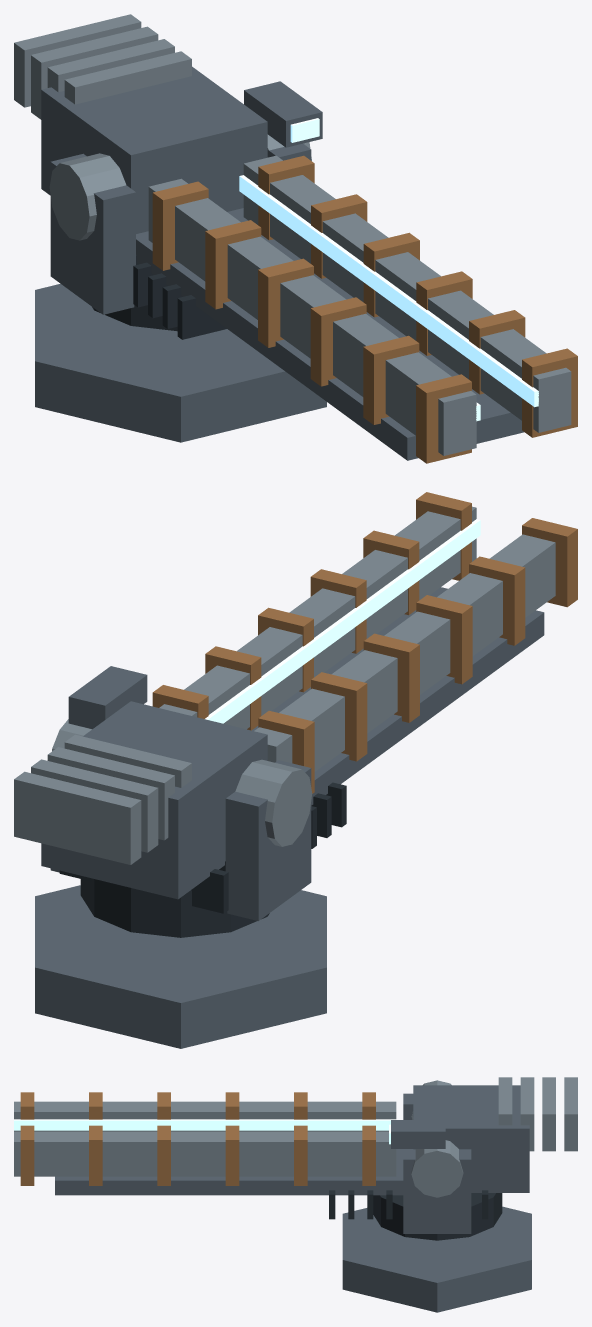
The model's file is railgun_t3_d0.meshopt.glb.
The picture shows the model from 3 angles, top to bottom: view 1: azimuth 30°, elevation 25°; view 2: azimuth 150°, elevation 25°; view 3: azimuth 270°, elevation 25°; orthographic projection. The views are drawn at different scales.
Parts seen in each view (by area): view 1: RECOIL_ARMOR_GEOMETRY, BASE_ARMOR_GEOMETRY, YAW_ARMOR_GEOMETRY, RECOIL_SIGNAL_GEOMETRY; view 2: RECOIL_ARMOR_GEOMETRY, BASE_ARMOR_GEOMETRY, YAW_ARMOR_GEOMETRY, RECOIL_SIGNAL_GEOMETRY; view 3: RECOIL_ARMOR_GEOMETRY, BASE_ARMOR_GEOMETRY, YAW_ARMOR_GEOMETRY, RECOIL_SIGNAL_GEOMETRY.
Boxes of the visible parts, x1,y1,x2,y2 form: RECOIL_ARMOR_GEOMETRY: (14, 14, 577, 463); BASE_ARMOR_GEOMETRY: (35, 284, 326, 442); YAW_ARMOR_GEOMETRY: (50, 143, 311, 331); RECOIL_SIGNAL_GEOMETRY: (239, 118, 538, 421); RECOIL_ARMOR_GEOMETRY: (14, 492, 577, 913); BASE_ARMOR_GEOMETRY: (35, 885, 326, 1048); YAW_ARMOR_GEOMETRY: (50, 760, 311, 937); RECOIL_SIGNAL_GEOMETRY: (205, 519, 480, 723); RECOIL_ARMOR_GEOMETRY: (14, 1077, 577, 1219); BASE_ARMOR_GEOMETRY: (342, 1206, 531, 1312); YAW_ARMOR_GEOMETRY: (373, 1093, 502, 1240); RECOIL_SIGNAL_GEOMETRY: (14, 1119, 396, 1144).
Bounding box in the file's own units: 1.6 × 1.38 × 4.13.
